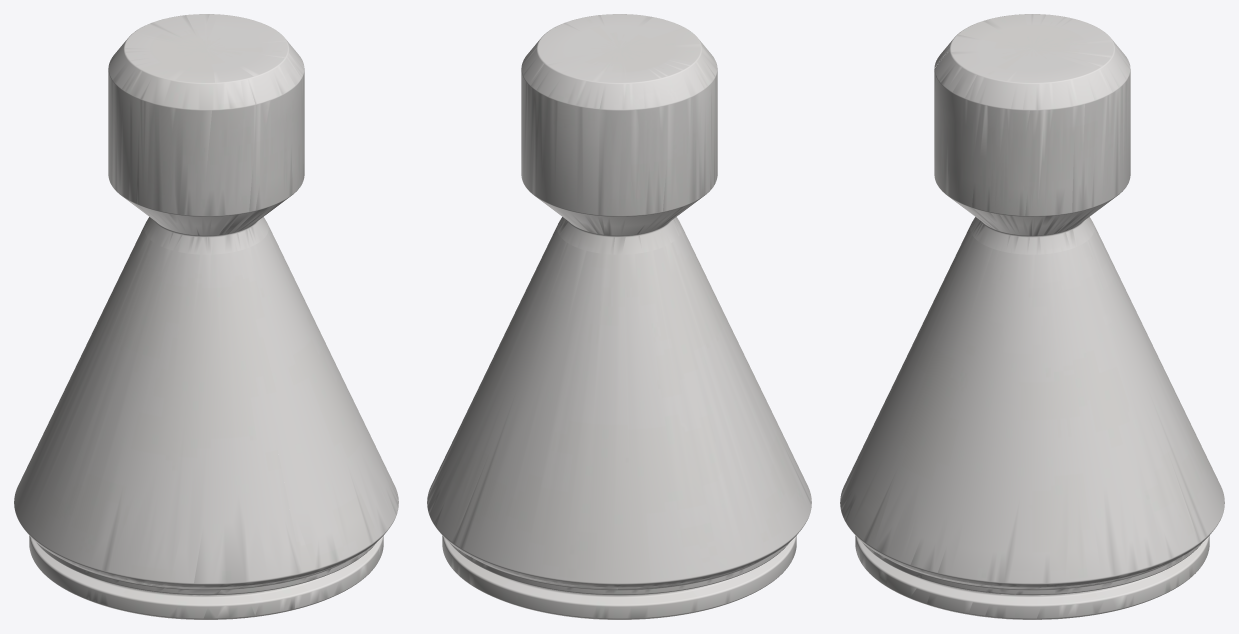
Rendered from pawn-white-hd.glb.
3 views of the same model, side by side, from view 1: azimuth 30°, elevation 25°; view 2: azimuth 150°, elevation 25°; view 3: azimuth 270°, elevation 25° (orthographic).
Visible parts, largest first — view 1: 06_pesec_bila; view 2: 06_pesec_bila; view 3: 06_pesec_bila.
Part boxes in pixels (box(x1,y1,x2,y2)): 06_pesec_bila: box(14, 14, 398, 619); 06_pesec_bila: box(427, 14, 811, 619); 06_pesec_bila: box(840, 14, 1224, 619).
Size of the model in its own units: 0.6158 by 0.88 by 0.6158.
1 material, 1 textured.
